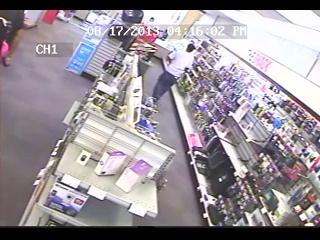Normal: (146, 42, 197, 106), (0, 11, 25, 66)
